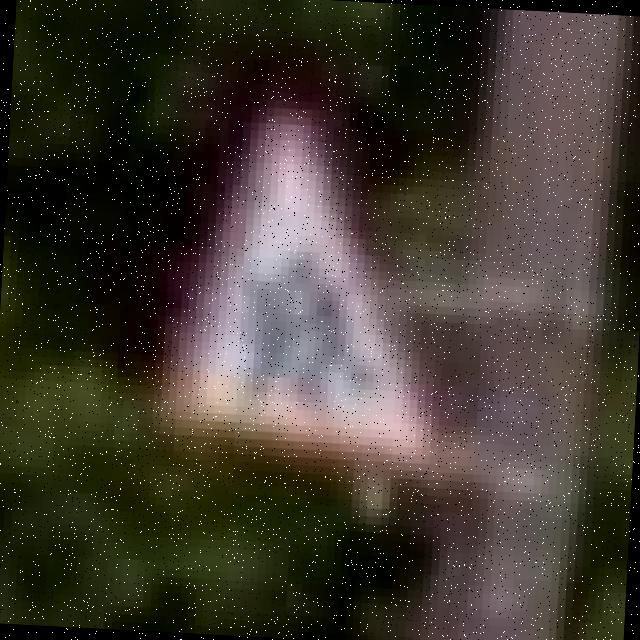Dzieci: (144, 102, 455, 464)
